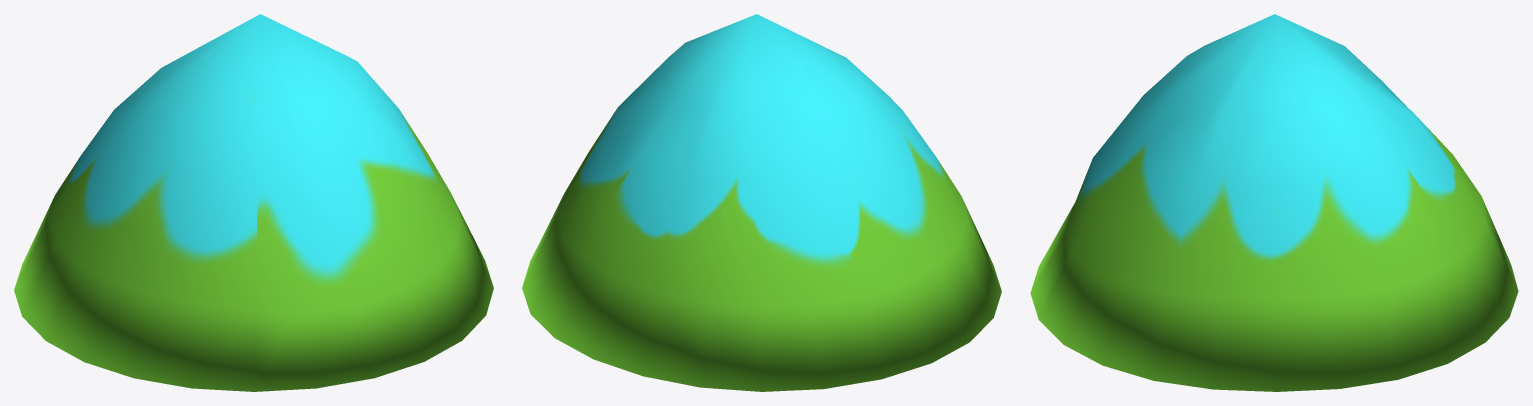
Rendered from SmallMountain.fbx.
3 views of the same model, side by side, from view 1: azimuth 30°, elevation 25°; view 2: azimuth 150°, elevation 25°; view 3: azimuth 270°, elevation 25° (orthographic). The views are drawn at different scales.
Visible parts, largest first — view 1: Small_Mountain; view 2: Small_Mountain; view 3: Small_Mountain.
Part boxes in pixels (box(x1,y1,x2,y2)): Small_Mountain: box(14, 14, 493, 391); Small_Mountain: box(522, 14, 1001, 391); Small_Mountain: box(1030, 14, 1518, 391).
Bounding box in the file's own units: 69.93 × 44.37 × 69.59.
